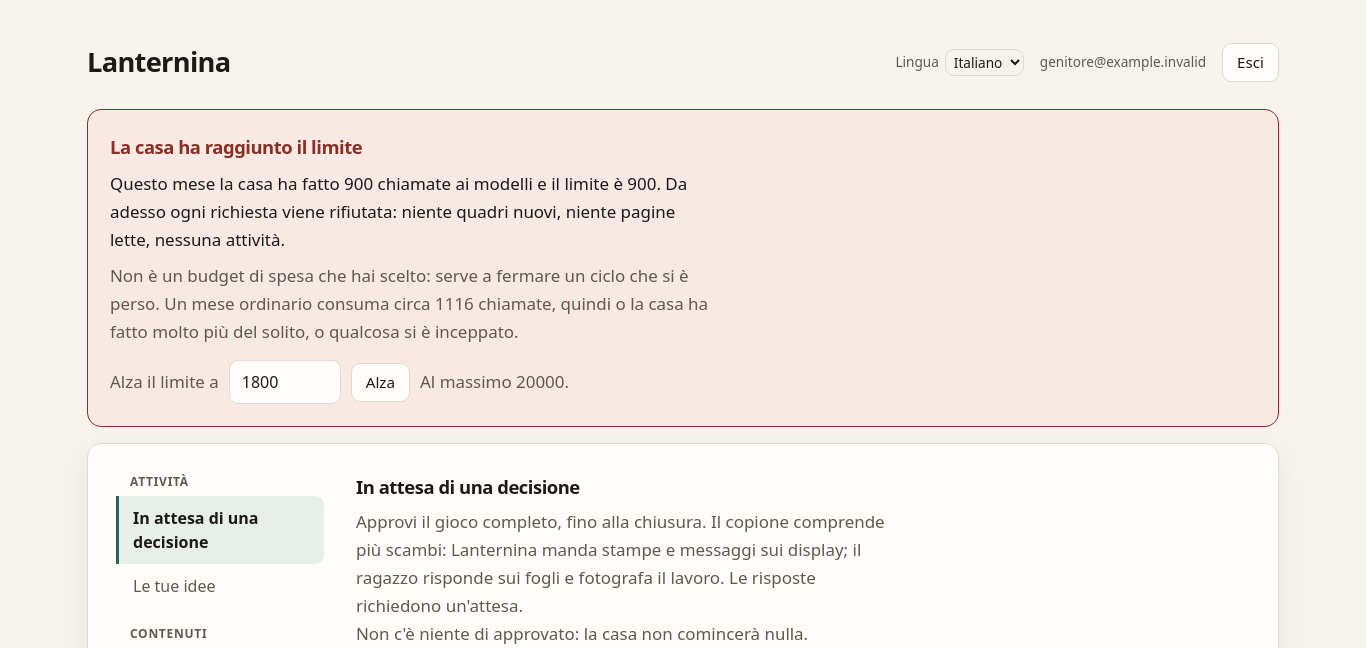
it: the monthly limit › raises it and says the house carries on by itself
Expected: the message is shown, [87, 109, 1279, 427]
Click the button "Alza": (380, 382) [351, 362, 410, 402]
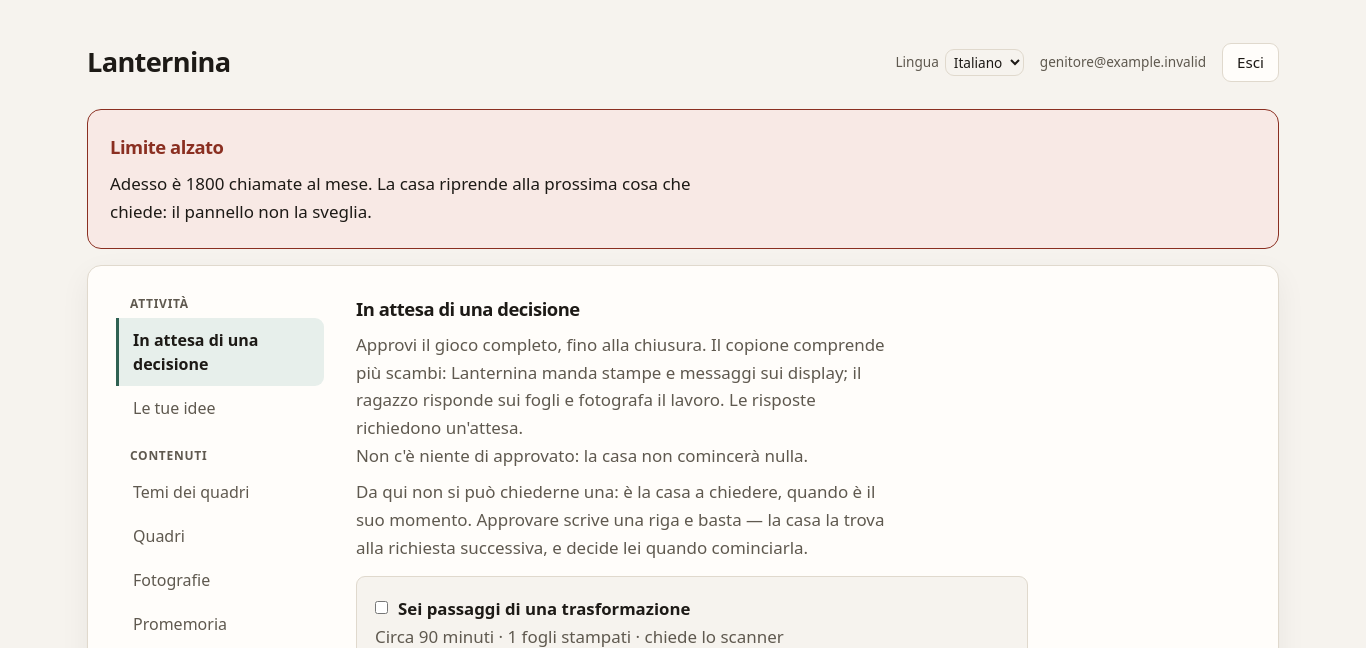
Result: the heading "Limite alzato" is shown at [110, 134, 224, 159]
Result: the label labelled "Alza il limite a" is gone
